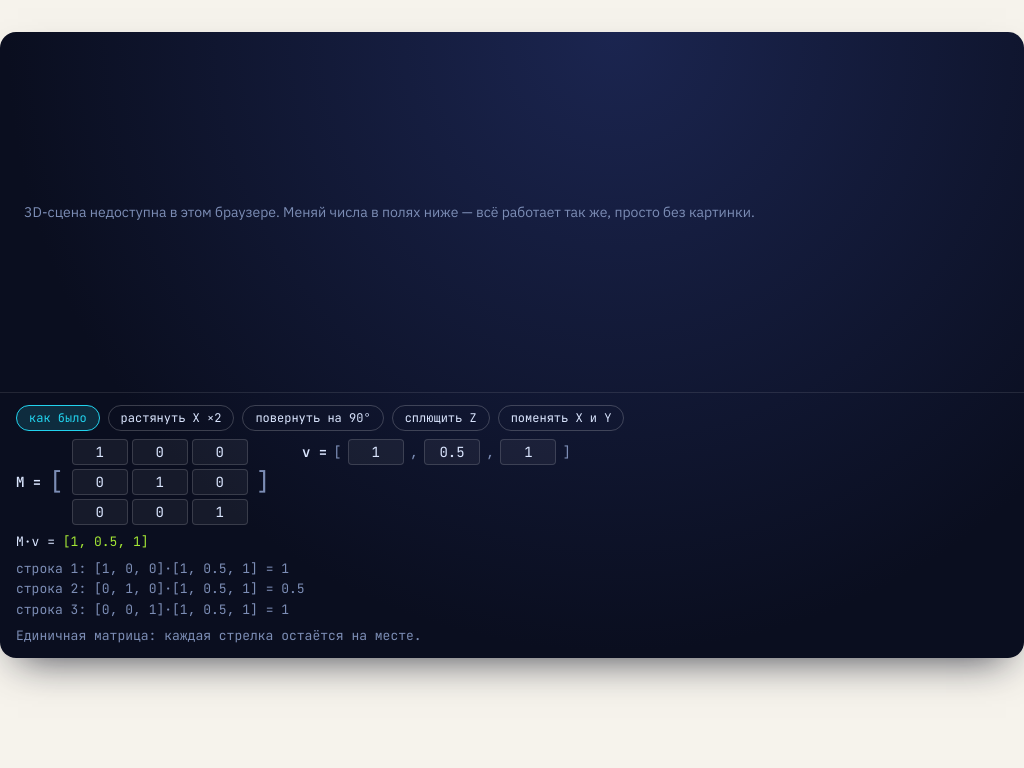
it: MatrixTransform3D without WebGL › recomputes when a matrix entry is edited, accepting a comma and clamping to the bound
Expected: the text "3D-сцена недоступна" is shown, [24,203,755,221]
Step 1. Replace the text in the field named "M, строка 1, столбец 1" with "1,5" → (100, 452), box [72,439,128,465]
Then press Enter
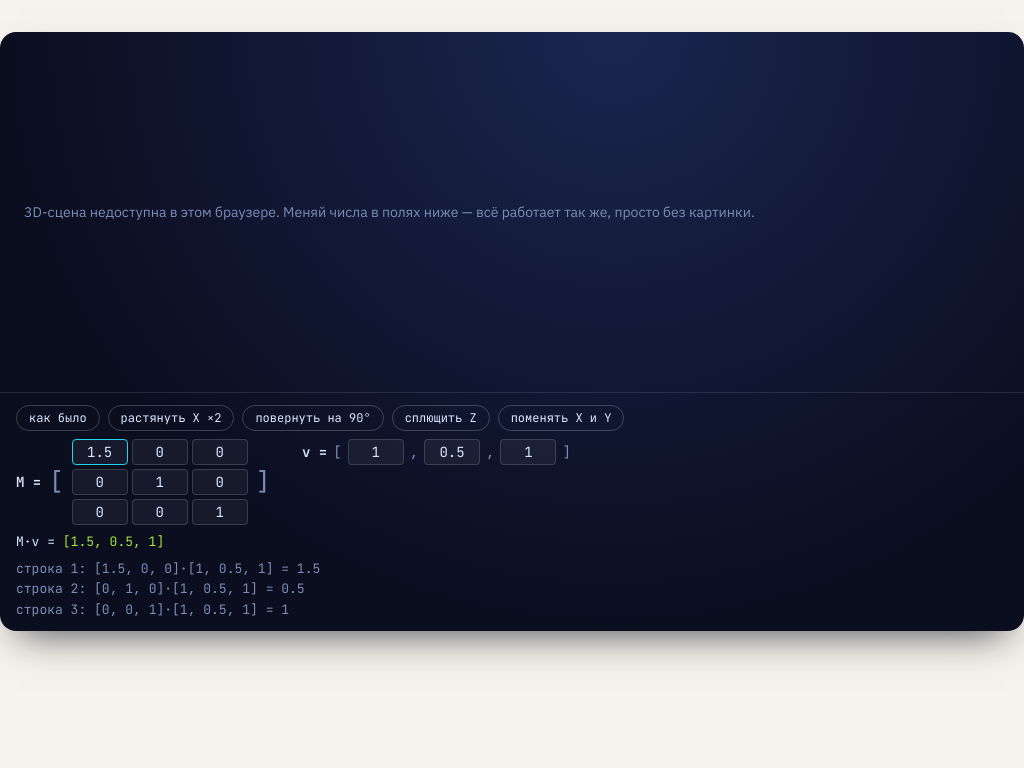
Result: the text "M·v = [1.5, 0.5, 1]" is shown at [16,533,164,550]
Step 2. Replace the text in the field named "M, строка 2, столбец 2" with "9" → (160, 482), box [132,469,188,495]
Then press Enter
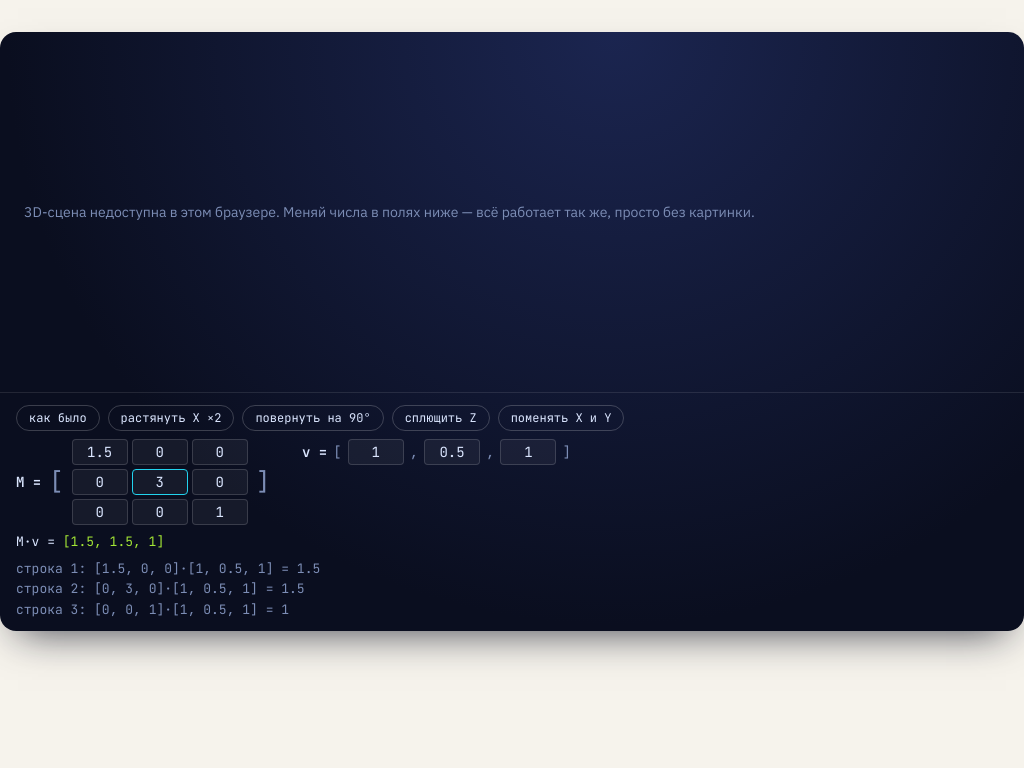
Result: the field named "M, строка 2, столбец 2" holds "3" at [132,469,188,495]
Result: the text "M·v = [1.5, 1.5, 1]" is shown at [16,533,164,550]
